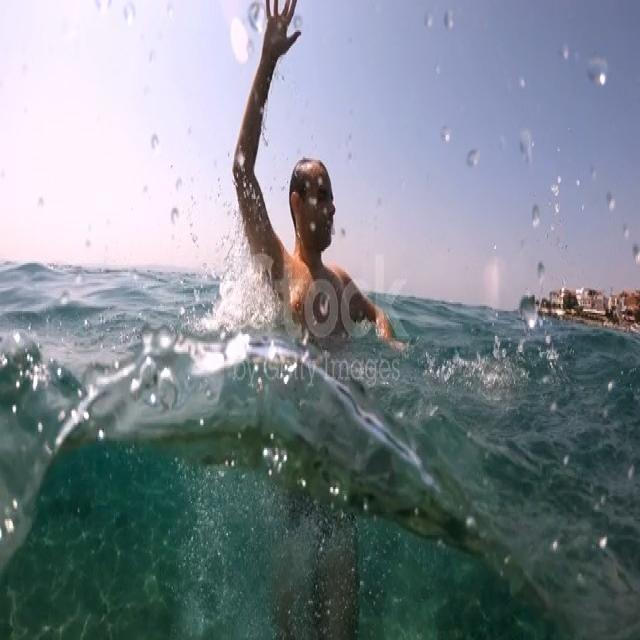drowning: (227, 0, 402, 351)
